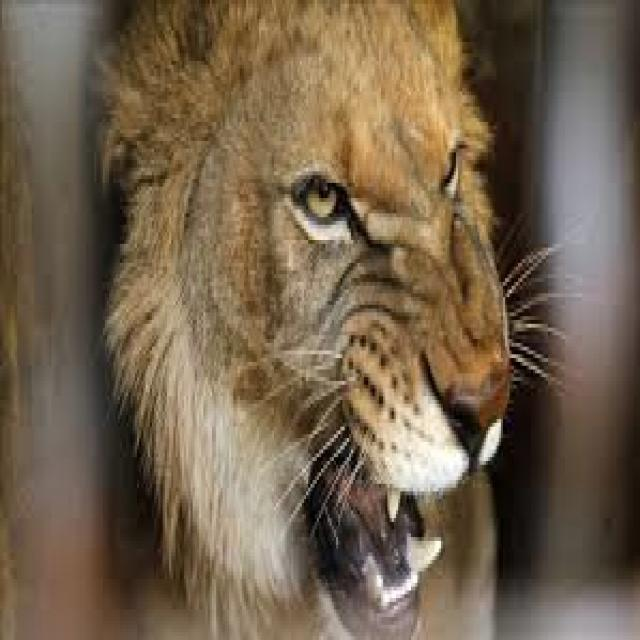lion: (103, 0, 509, 636)
